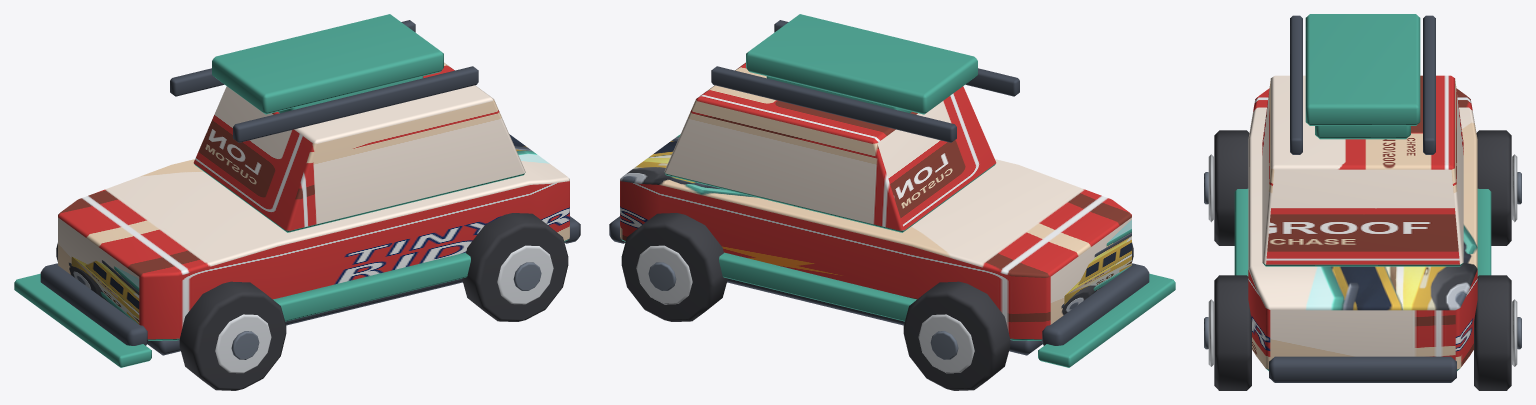
3 renders of one model, left to right at view 1: azimuth 30°, elevation 25°; view 2: azimuth 150°, elevation 25°; view 3: azimuth 270°, elevation 25°, orthographic. The views are drawn at different scales.
Visible parts, largest first — view 1: RR-02_connected_shell, RR-02_cabin, utility load, Tire, Tire.002, utility rail, custom side guard, custom chin, front bumper, Rim, Rim.002, underbody (+3 smaller); view 2: RR-02_connected_shell, RR-02_cabin, utility load, Tire.001, Tire.003, utility rail.001, custom side guard.001, custom chin, front bumper, Rim.001, Rim.003, underbody (+3 smaller); view 3: RR-02_cabin, RR-02_connected_shell, utility load, rear bumper, Tire.002, Tire.003, Tire, Tire.001, utility rail, utility rail.001, custom equipment, custom side guard (+5 smaller).
Part boxes in pixels (x1,y1,x2,y2): RR-02_connected_shell: (58, 134, 569, 340); RR-02_cabin: (193, 62, 525, 232); utility load: (212, 14, 443, 114); Tire: (179, 281, 286, 390); Tire.002: (462, 213, 568, 321); utility rail: (233, 66, 478, 142); custom side guard: (273, 252, 470, 321); custom chin: (14, 273, 151, 367); front bumper: (40, 263, 148, 345); Rim: (215, 314, 271, 373); Rim.002: (497, 245, 553, 304); underbody: (147, 278, 462, 355); RR-02_connected_shell: (620, 134, 1131, 340); RR-02_cabin: (664, 62, 996, 232); utility load: (746, 14, 977, 114); Tire.001: (903, 281, 1010, 390); Tire.003: (621, 213, 727, 321); utility rail.001: (711, 66, 956, 142); custom side guard.001: (719, 252, 916, 321); custom chin: (1038, 273, 1175, 367); front bumper: (1041, 263, 1149, 345); Rim.001: (918, 314, 974, 373); Rim.003: (636, 245, 692, 304); underbody: (727, 278, 1042, 355); RR-02_cabin: (1262, 75, 1463, 266); RR-02_connected_shell: (1248, 88, 1477, 370); utility load: (1305, 14, 1420, 125); rear bumper: (1269, 356, 1456, 382); Tire.002: (1214, 275, 1251, 390); Tire.003: (1474, 275, 1511, 390); Tire: (1214, 130, 1249, 245); Tire.001: (1476, 130, 1511, 245); utility rail: (1290, 15, 1302, 154); utility rail.001: (1423, 15, 1435, 154); custom equipment: (1315, 126, 1410, 139); custom side guard: (1234, 188, 1248, 276).
Bounding box in the file's own units: 395 × 199 × 219.
